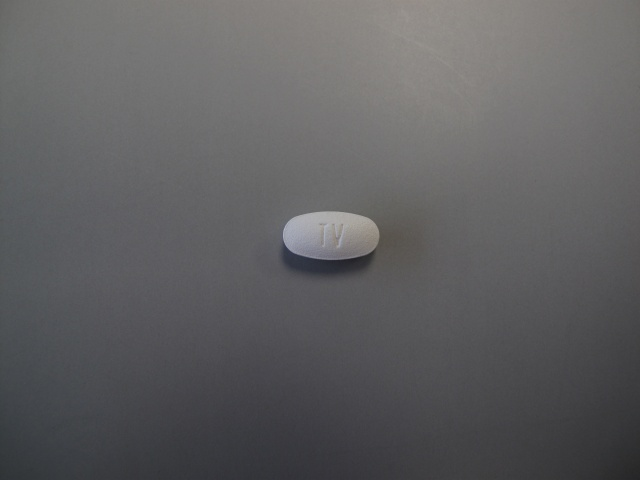T: (317, 221, 329, 249)
V: (331, 222, 344, 252)
